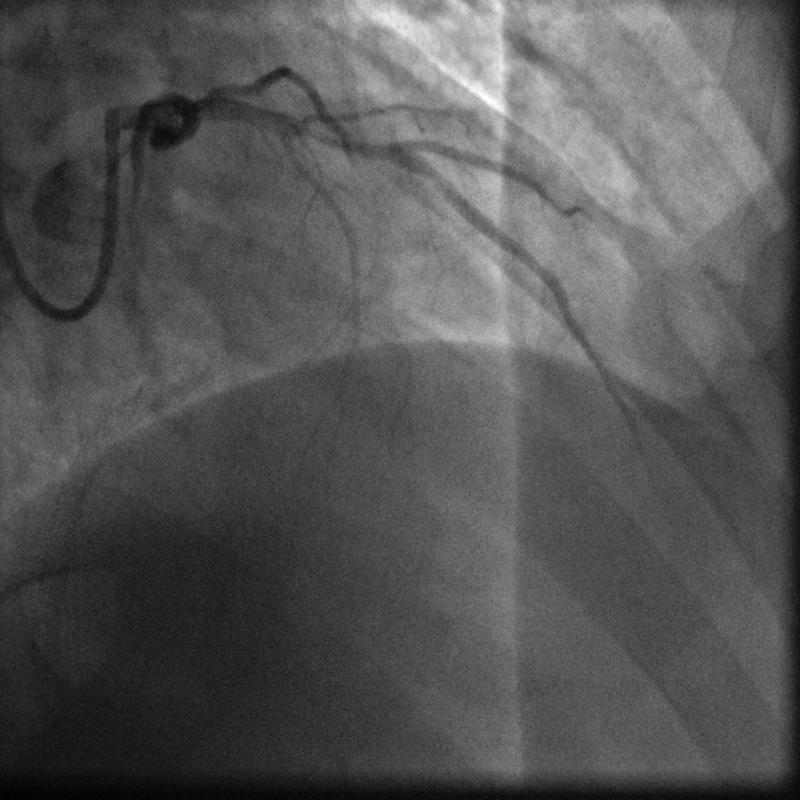Stenosis: (296, 123, 384, 159)
